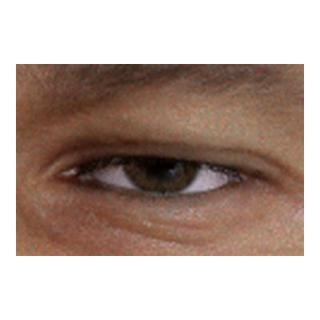pupil: (143, 137, 180, 175)
